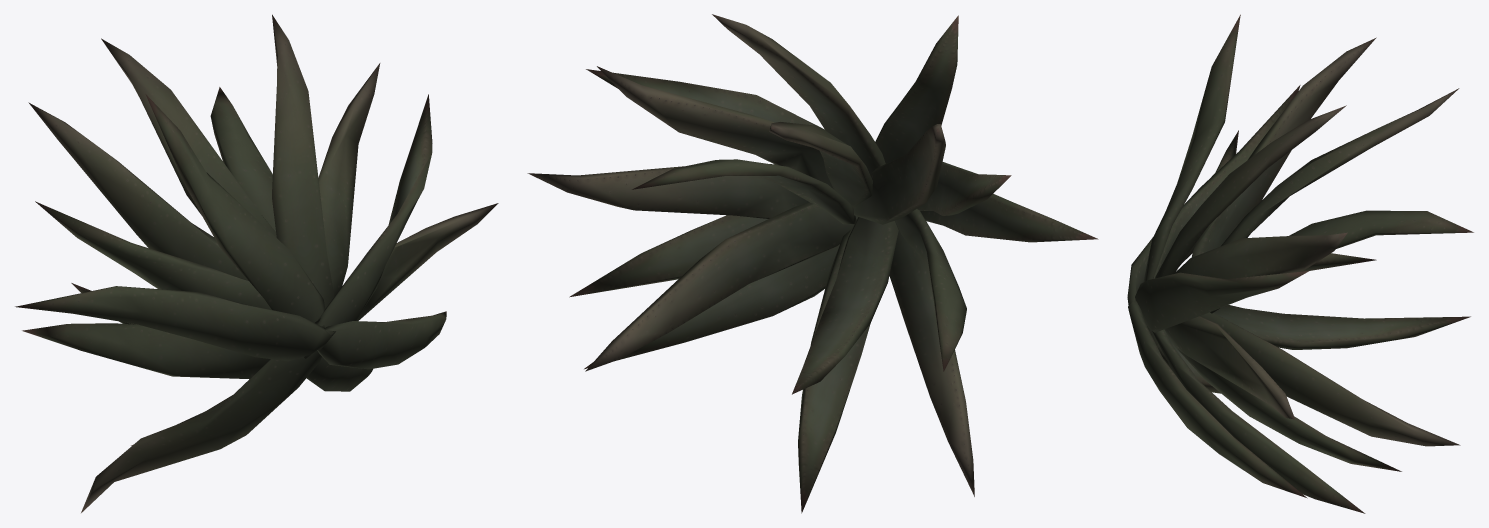
The model's file is DE_Cactus_b_02.fbx.
3 renders of one model, left to right at view 1: azimuth 30°, elevation 25°; view 2: azimuth 150°, elevation 25°; view 3: azimuth 270°, elevation 25°, orthographic. The views are drawn at different scales.
Parts seen in each view (by area): view 1: DE_Cactus_b_02; view 2: DE_Cactus_b_02; view 3: DE_Cactus_b_02.
Part boxes in pixels (x1,y1,x2,y2): DE_Cactus_b_02: (15, 14, 498, 512); DE_Cactus_b_02: (527, 14, 1098, 513); DE_Cactus_b_02: (1127, 14, 1473, 513).
Bounding box in the file's own units: 3.46 × 2.77 × 2.05.
